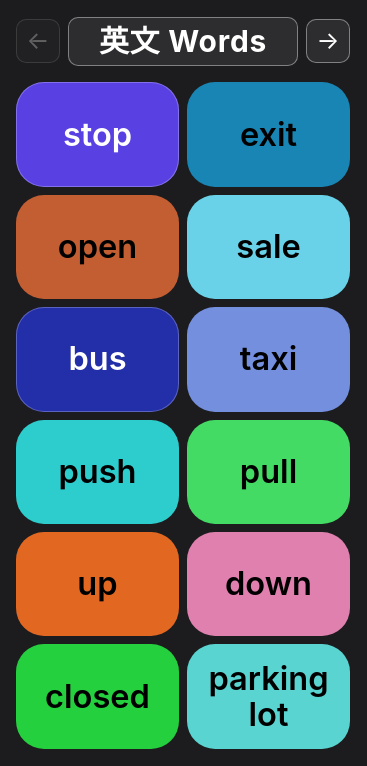
it: plays a Taigi phrase clip on the phrase page
The width and height of the screenshot is (367, 766).
Later steps or results of the test are not shown.
Click the button named "Next page": (328, 41) left=306, top=19, right=350, bottom=63
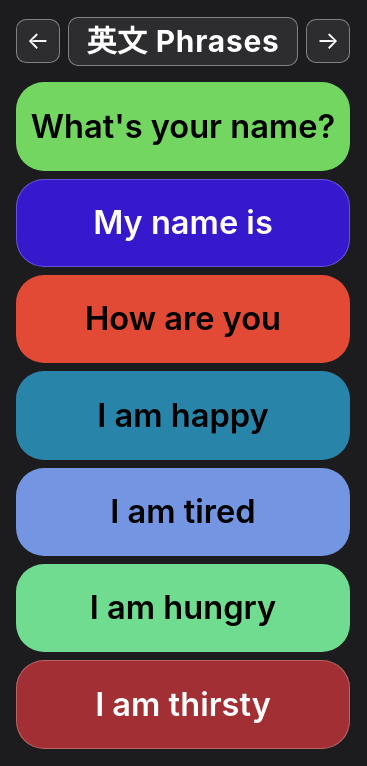
Click the button with aria-label "switch language": (183, 41) left=68, top=17, right=298, bottom=66
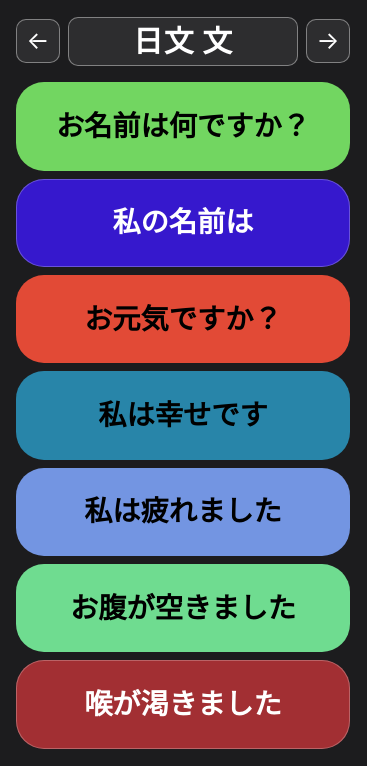
Click the button with aria-label "switch language": (183, 41) left=68, top=17, right=298, bottom=66
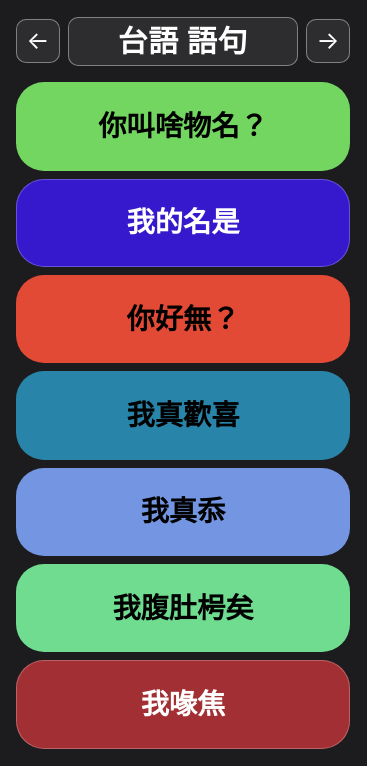
Click the button "我真歡喜": (183, 416) left=16, top=371, right=350, bottom=460
Expected: the button "我真歡喜" is shown, left=16, top=371, right=350, bottom=460
